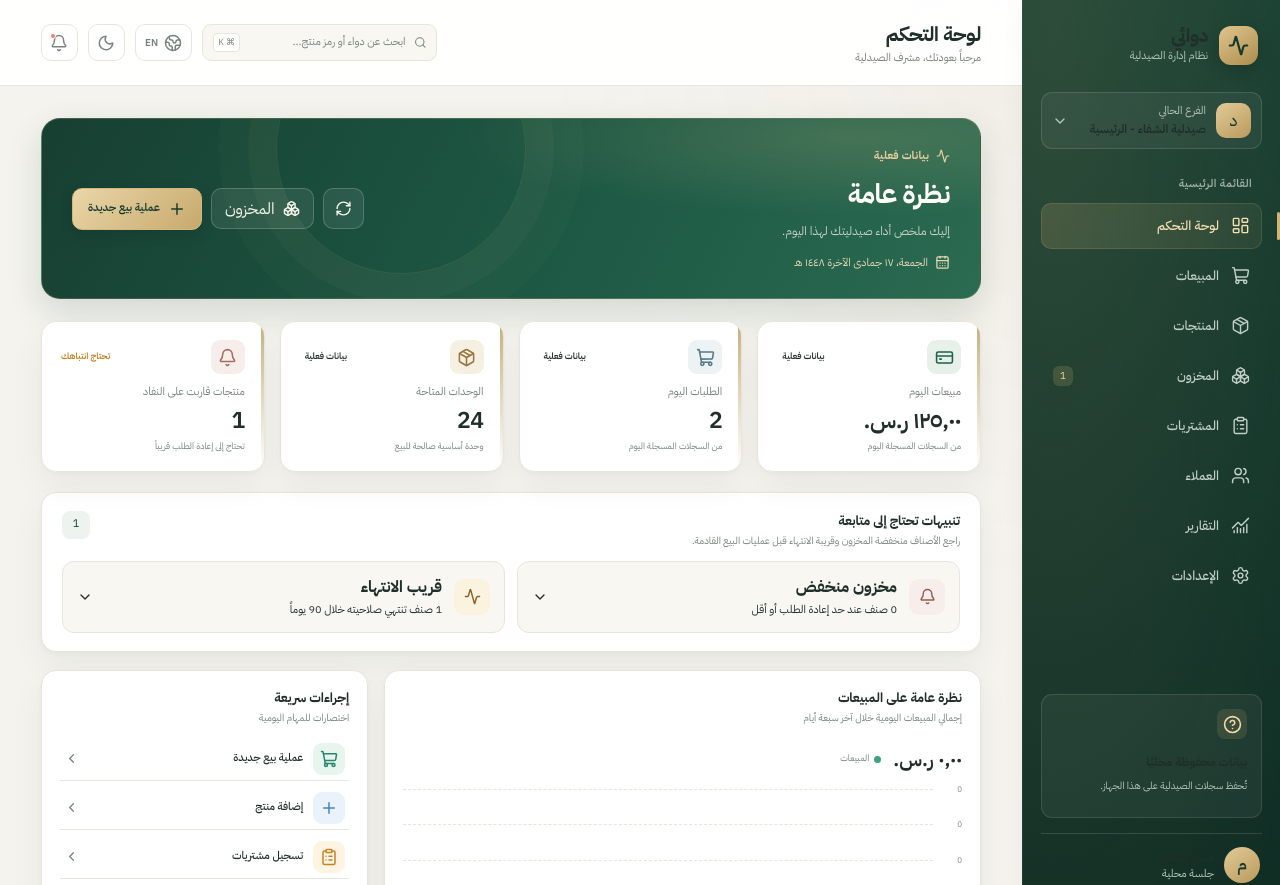
Scenario: main application shell › filters POS products by category and opens batch details
Click the button "المبيعات": {"x": 1152, "y": 276} [1041, 252, 1262, 298]
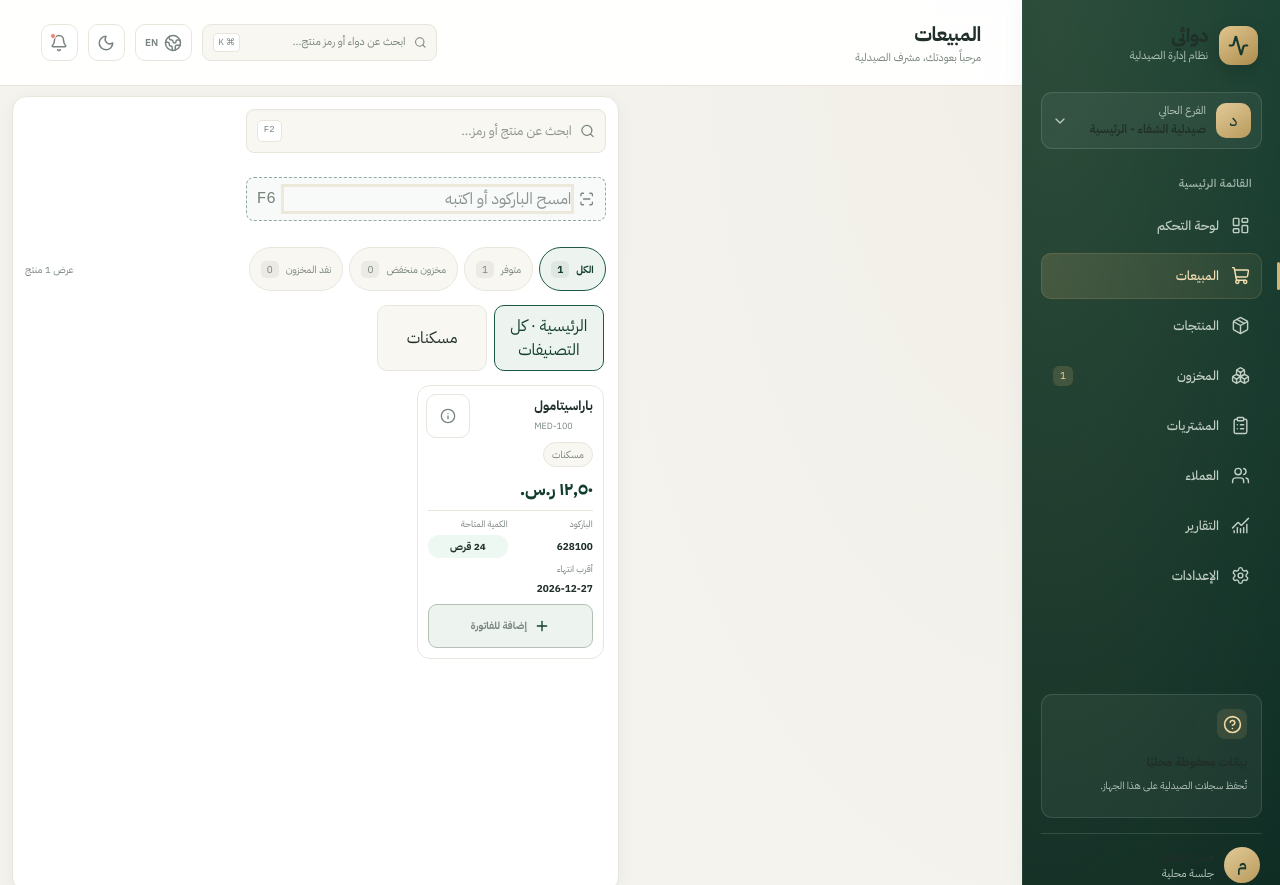
Click the button "مسكنات": {"x": 432, "y": 338} [377, 305, 487, 371]
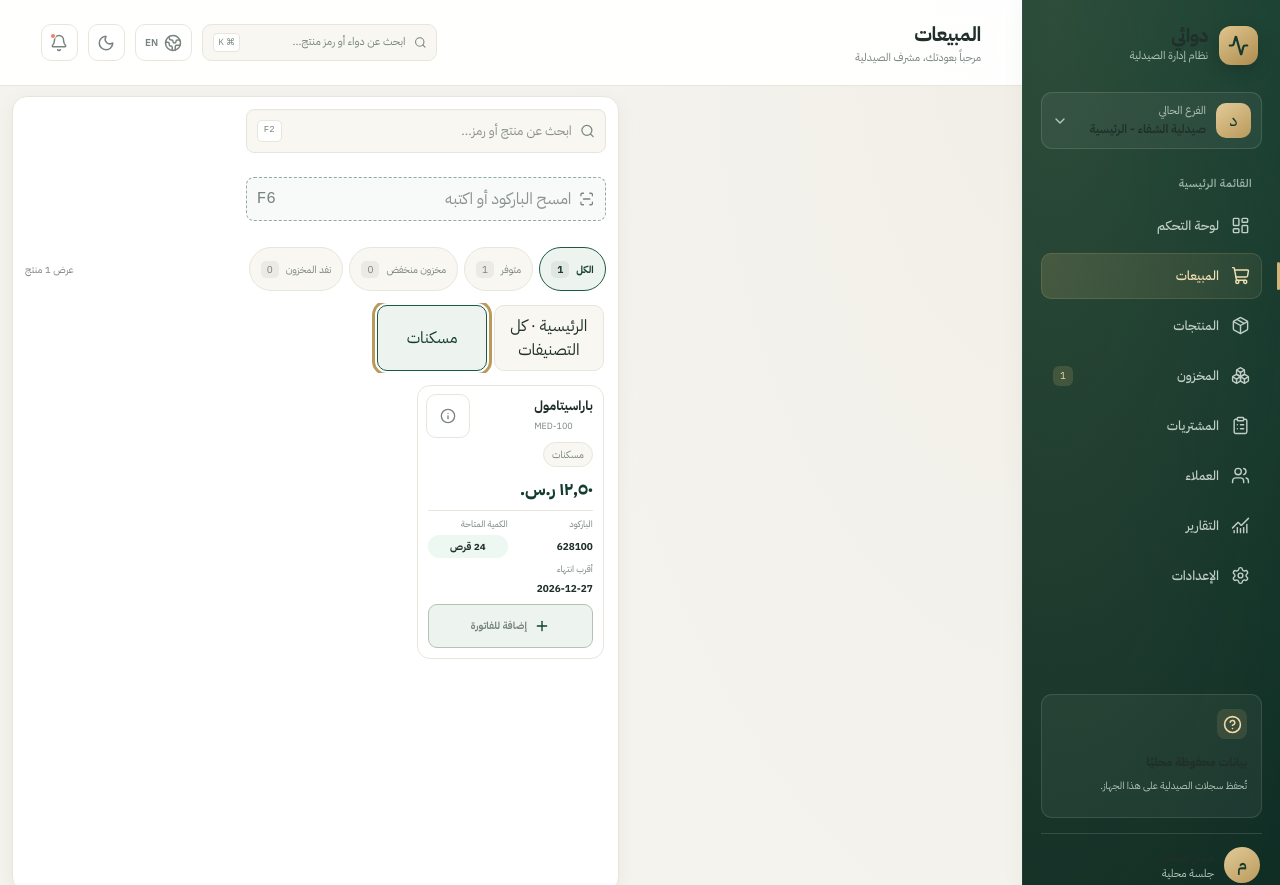
Expected: the heading "باراسيتامول" is shown, [534, 396, 593, 416]
Click the button named "تفاصيل التشغيلات باراسيتامول": {"x": 448, "y": 416} [426, 394, 470, 438]
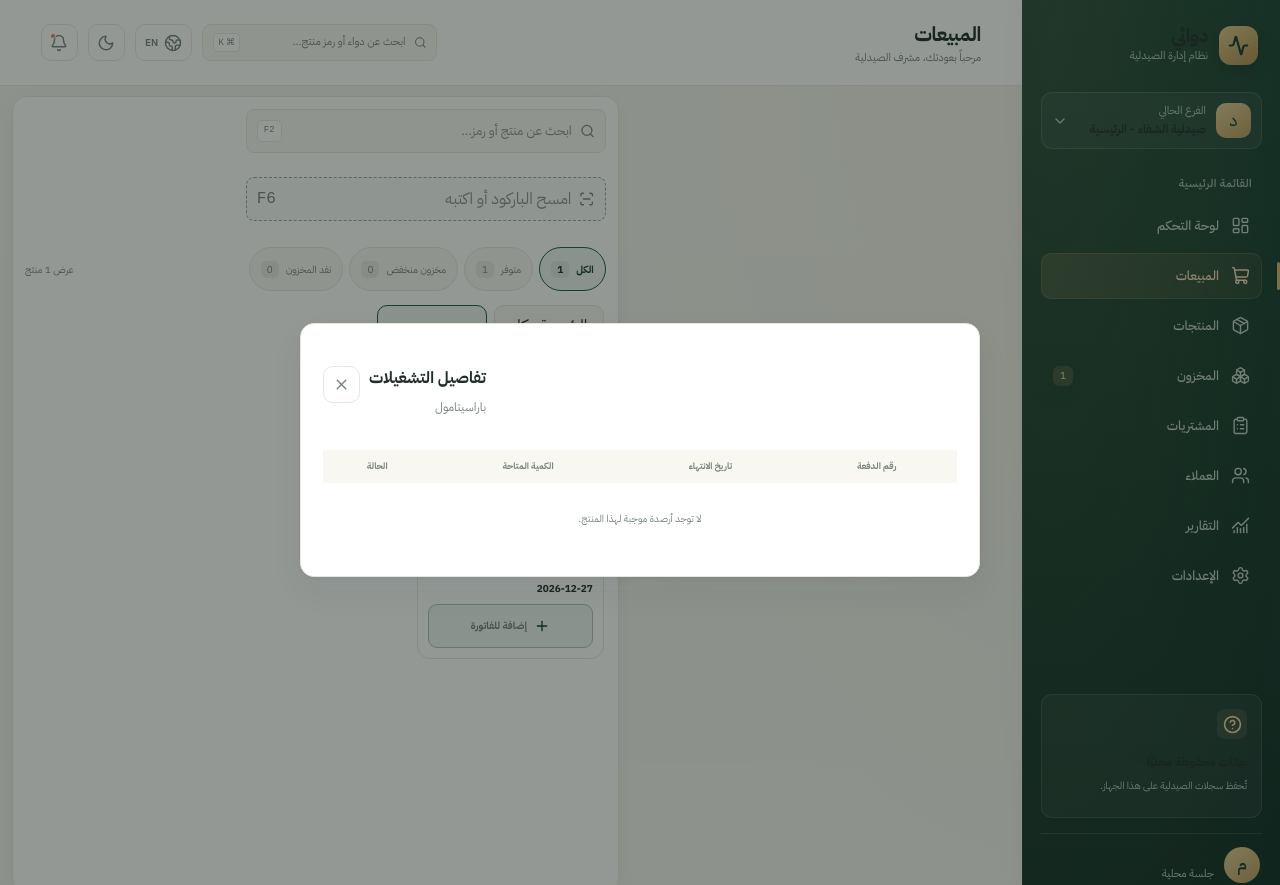
Expected: the dialog "تفاصيل التشغيلات" is shown, [300, 323, 980, 577]
Expected: the text "لا توجد أرصدة موجبة لهذا المنتج." is shown, [323, 483, 957, 554]
